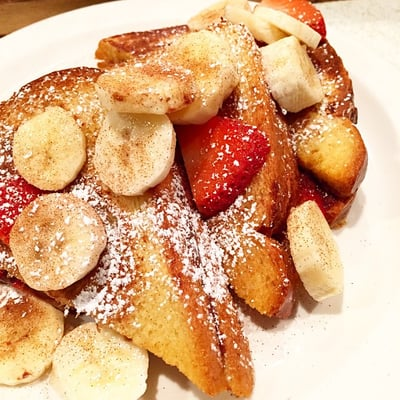salad: (8, 192, 108, 293), (0, 276, 65, 388)
